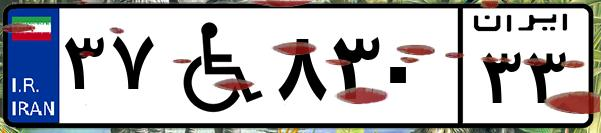0: (385, 28, 445, 110)
3: (330, 28, 385, 110), (57, 26, 110, 100), (475, 38, 525, 113), (525, 38, 570, 115)
7: (110, 28, 158, 98)
8: (270, 28, 330, 110)
ژ (معلولین و جانبازان): (158, 12, 270, 120)
